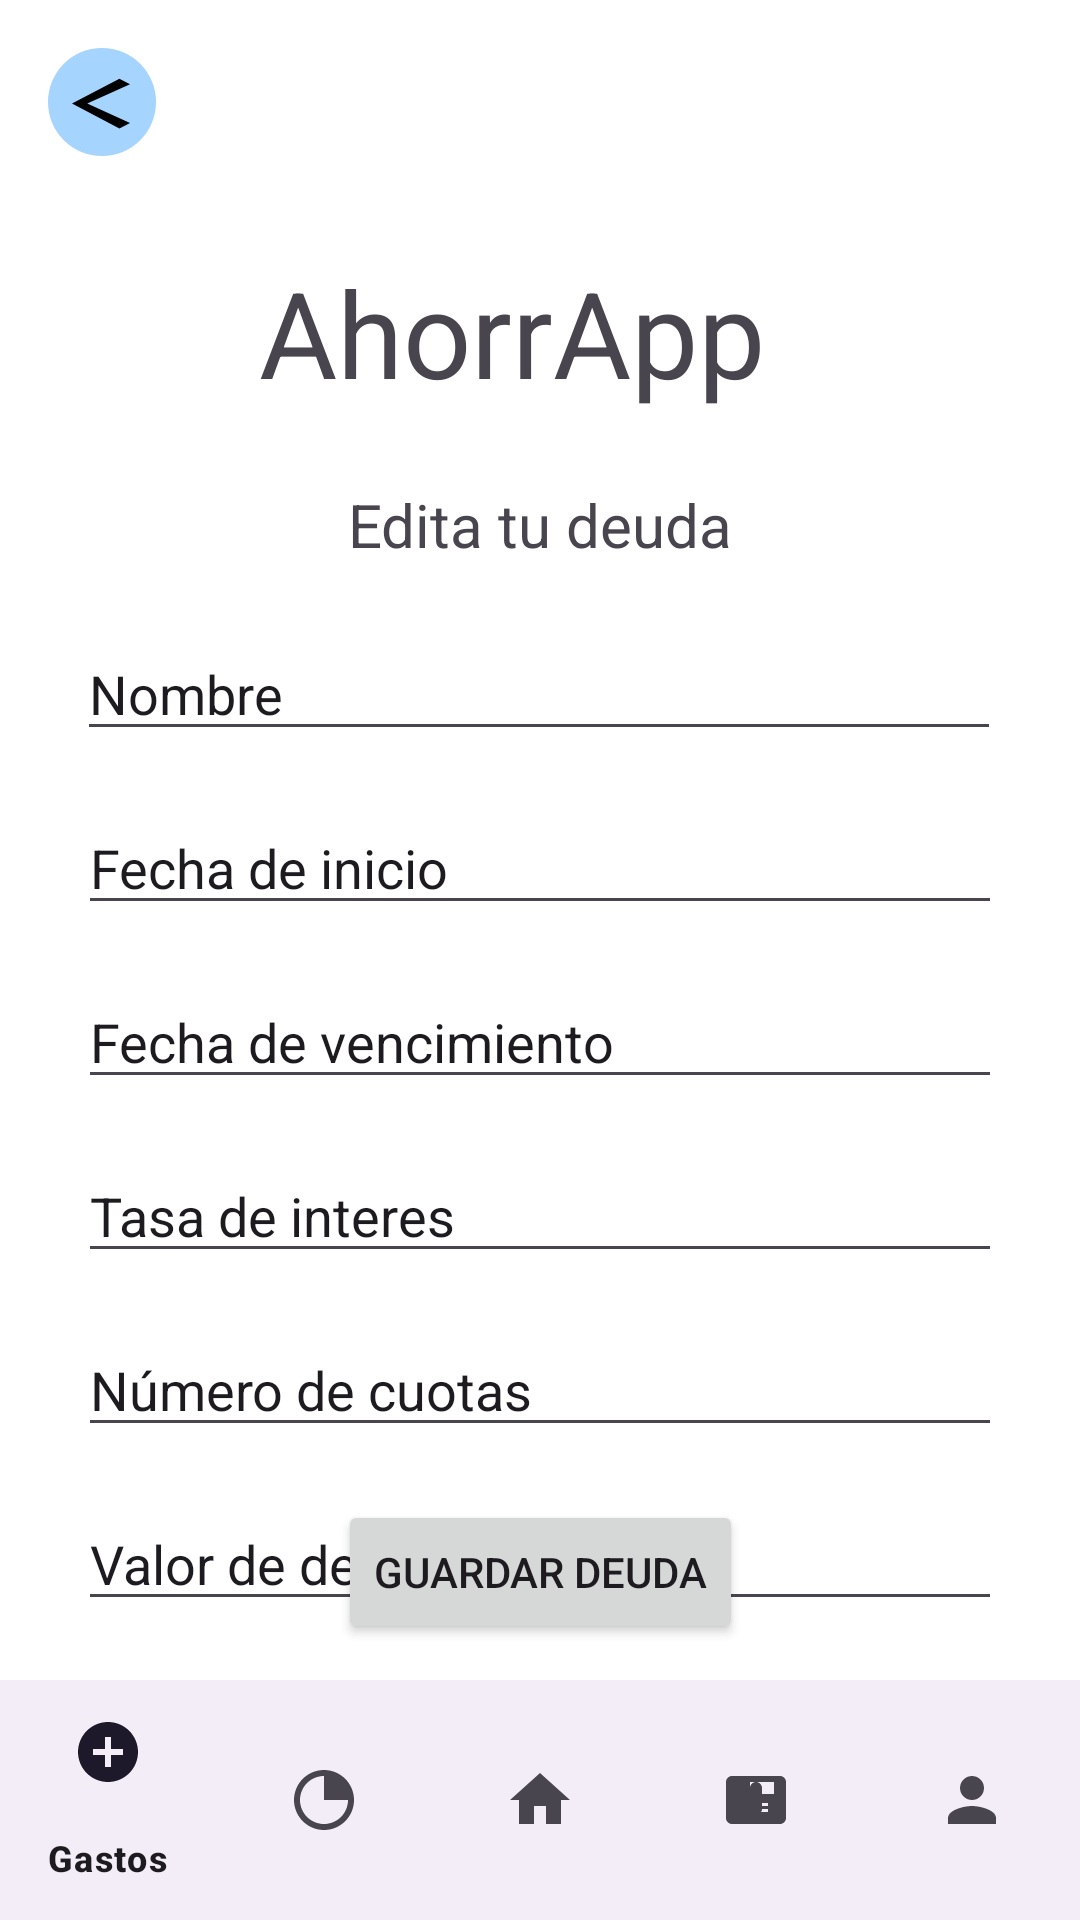

Where to tap for icons on this 1080 × 1920 app screen, as (x,y):
arrow back: (102,102)
